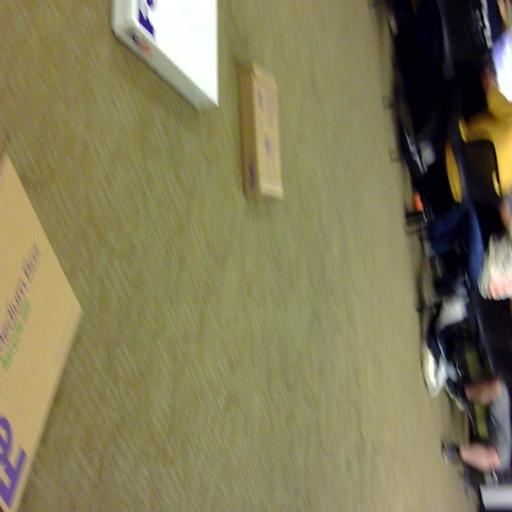Amazon: (0, 162, 91, 511), (117, 0, 230, 121)
